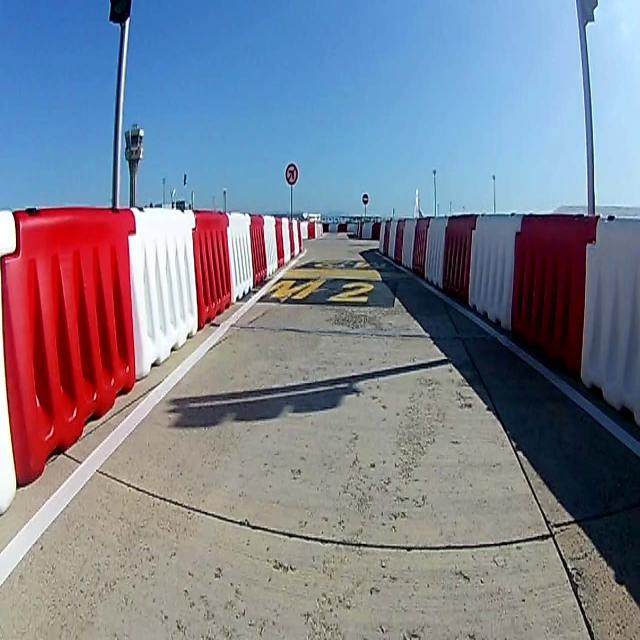soladonulmez: (286, 161, 298, 187)
